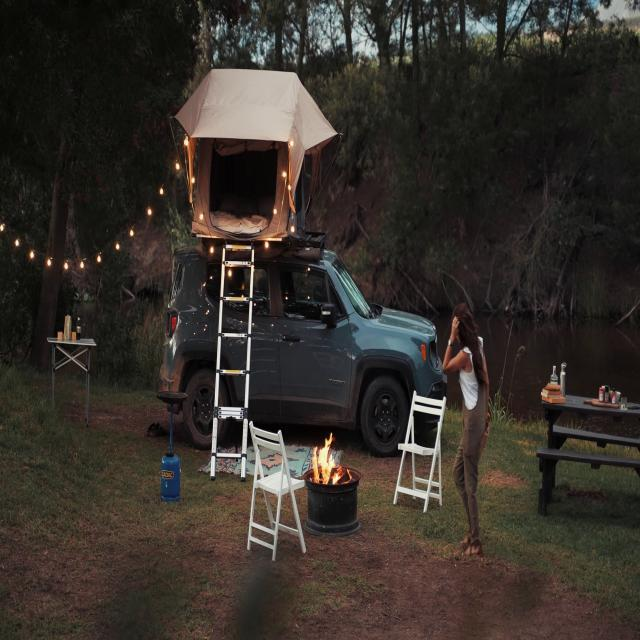Fire: (310, 428, 342, 492)
